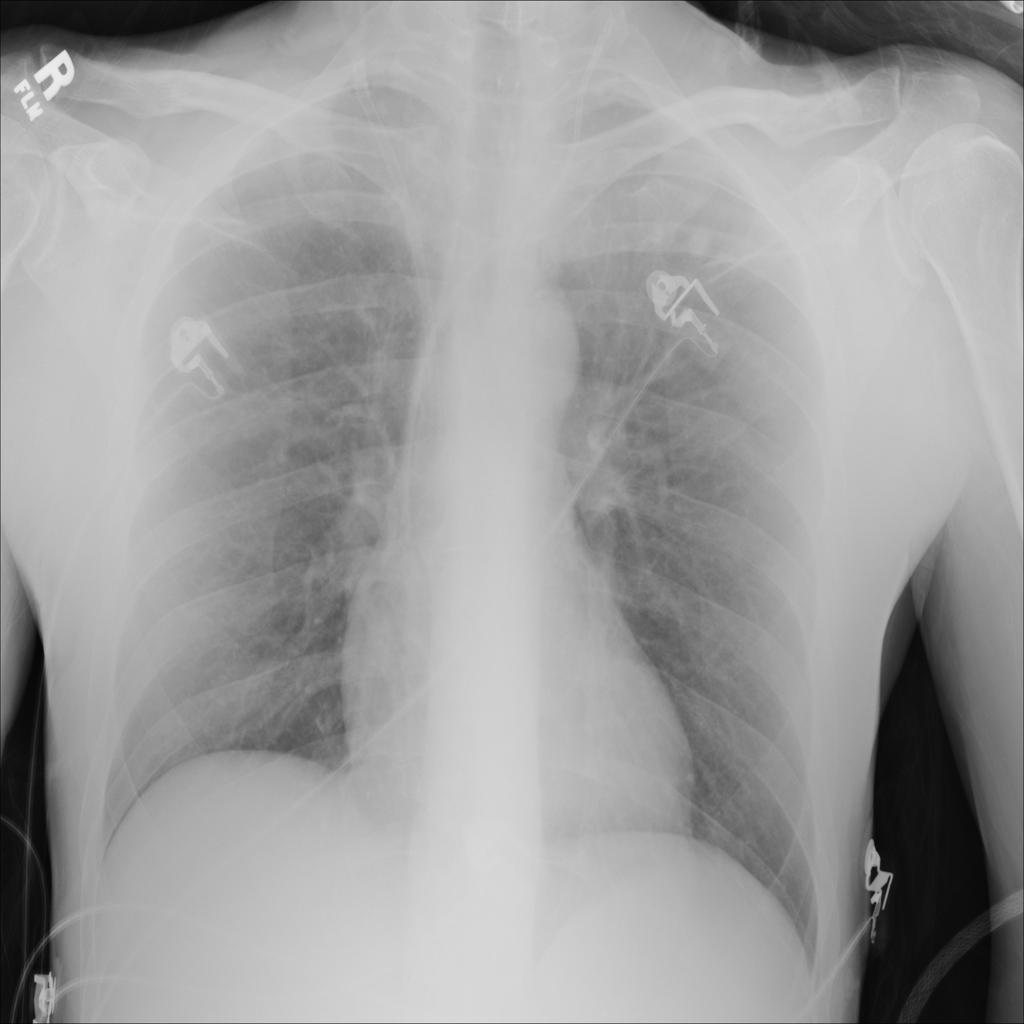nodule: (675, 216, 728, 266)
